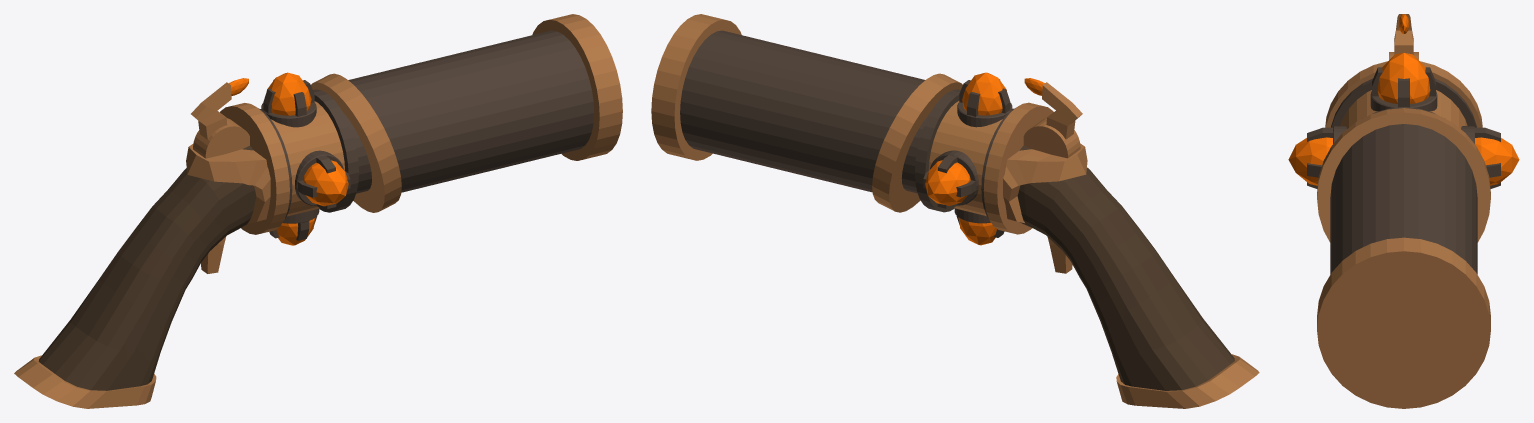
File: fbx_flaregun_02.fbx
3 views of the same model, side by side, from view 1: azimuth 30°, elevation 25°; view 2: azimuth 150°, elevation 25°; view 3: azimuth 270°, elevation 25° (orthographic). The views are drawn at different scales.
Parts seen in each view (by area): view 1: Cylinder.002; view 2: Cylinder.002; view 3: Cylinder.002.
Boxes of the visible parts, x1,y1,x2,y2 form: Cylinder.002: (14, 14, 622, 408); Cylinder.002: (651, 14, 1259, 408); Cylinder.002: (1288, 14, 1519, 408).
Bounding box in the file's own units: 37.77 × 18 × 11.2.
